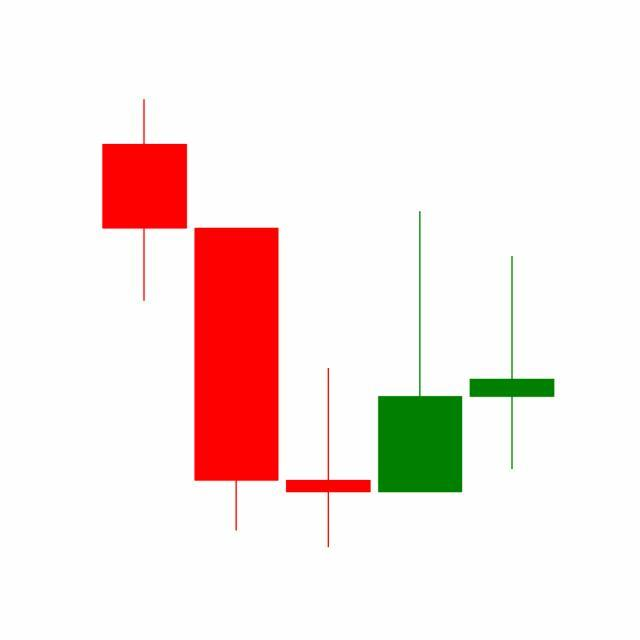Spinning Top: (466, 254, 559, 472)
